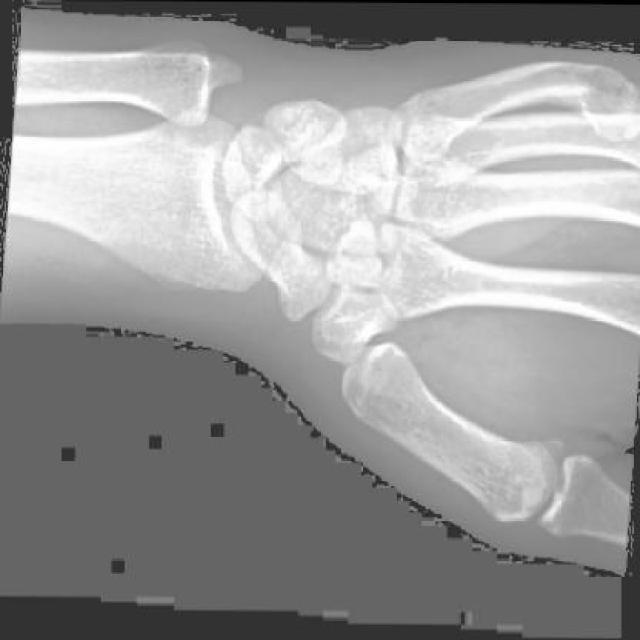Fracture: (259, 219, 304, 284)
